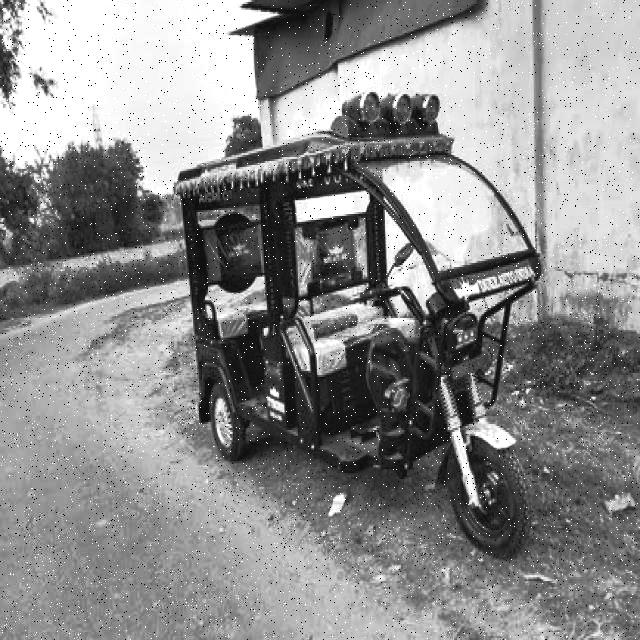Toto: (175, 130, 542, 554)
